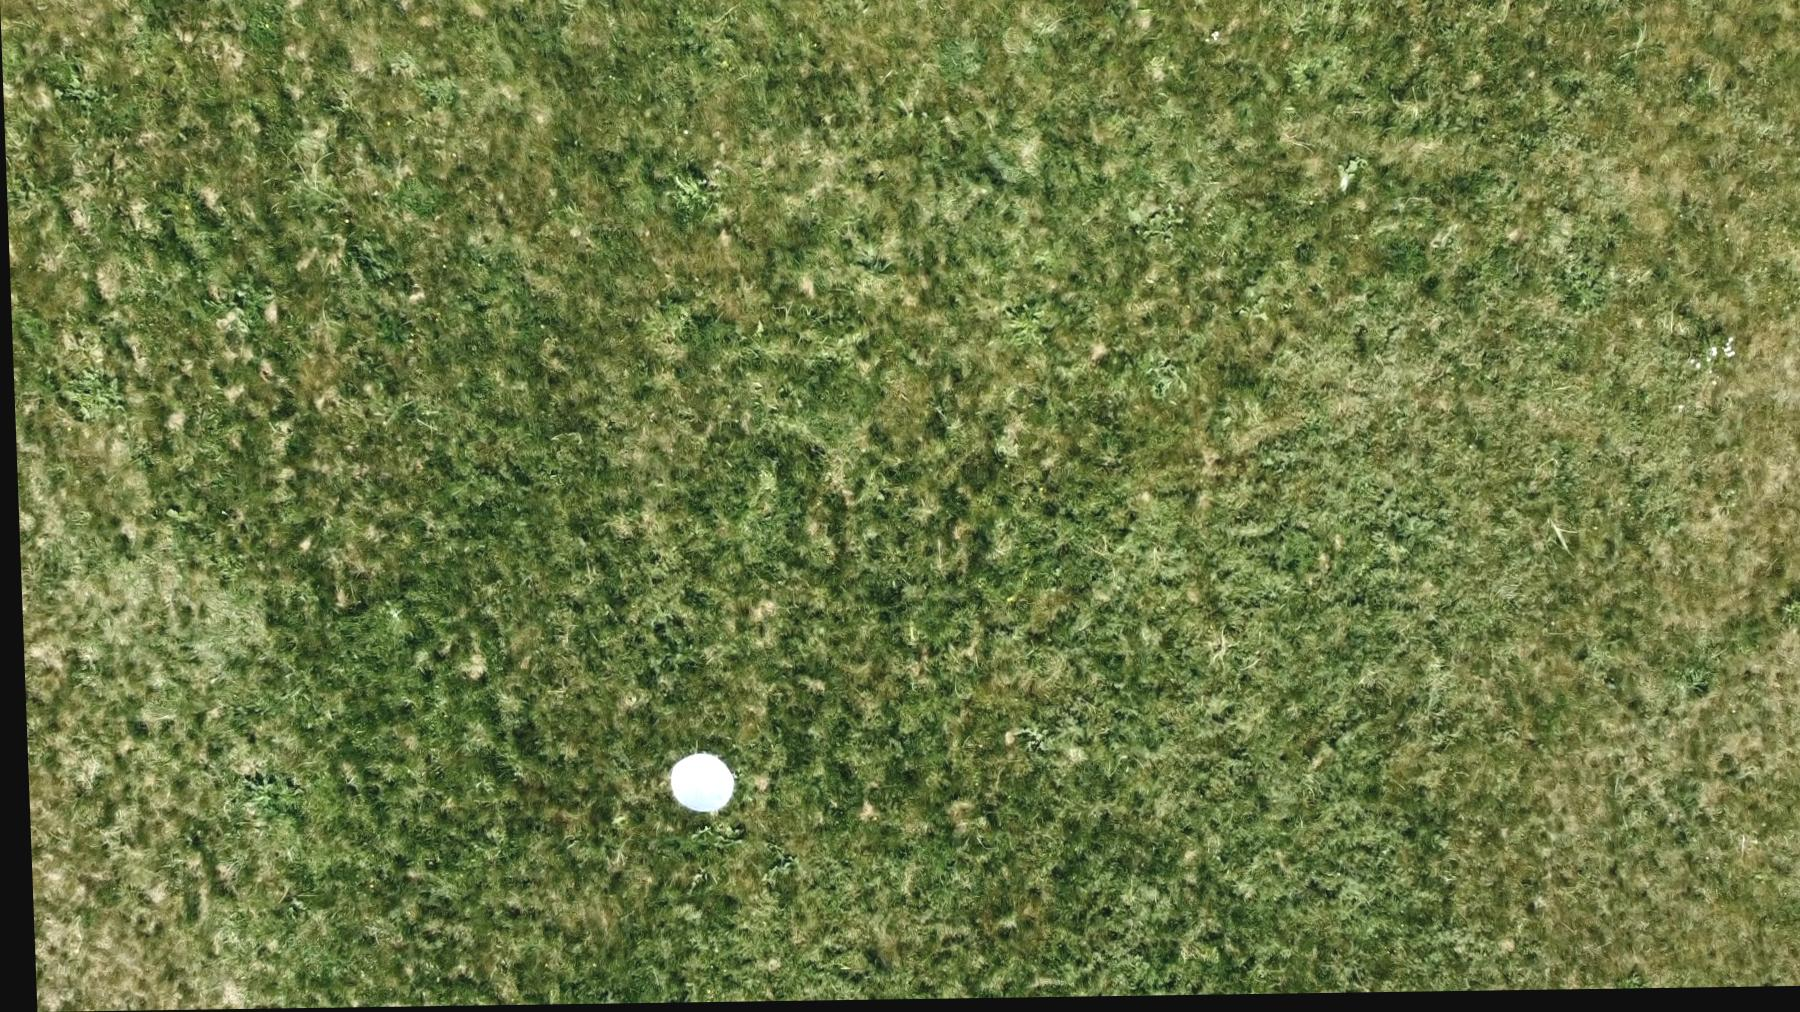Blue: (659, 753, 733, 818)
